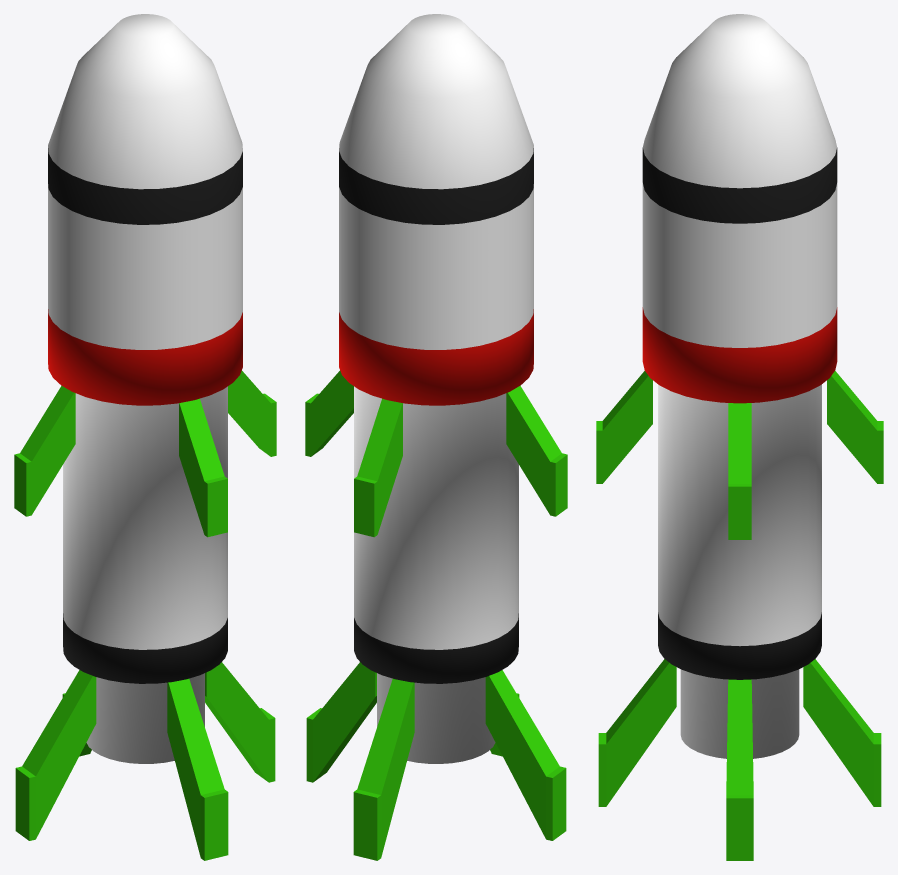
Rendered from missile.fbx.
3 renders of one model, left to right at view 1: azimuth 30°, elevation 25°; view 2: azimuth 150°, elevation 25°; view 3: azimuth 270°, elevation 25°, orthographic.
Visible parts, largest first — view 1: missile_mesh; view 2: missile_mesh; view 3: missile_mesh.
Boxes of the visible parts, x1,y1,x2,y2 form: missile_mesh: [14, 14, 276, 860]; missile_mesh: [305, 14, 567, 860]; missile_mesh: [596, 14, 883, 860].
Size of the model in its own units: 0.7907 by 2.35 by 0.7907.
